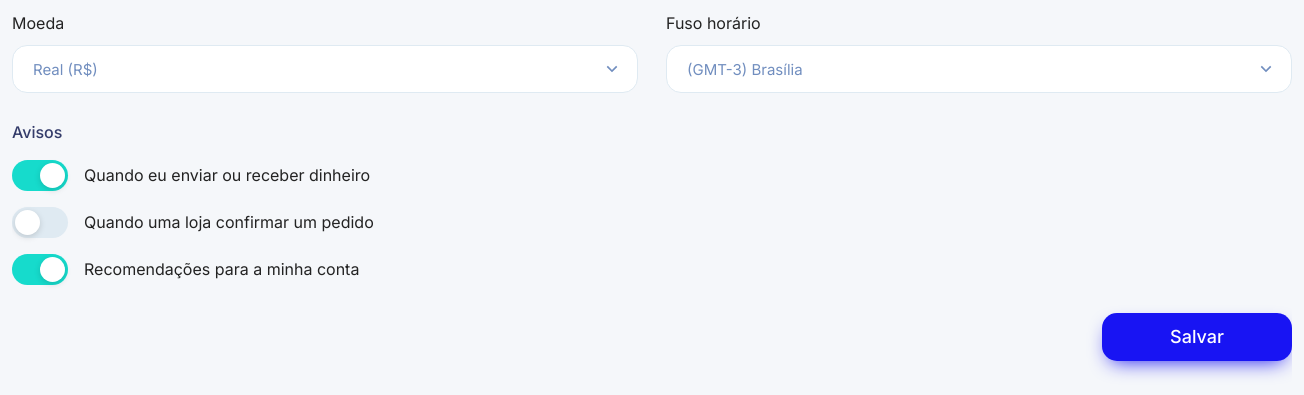
Scenario: salvar confirma; mudar algo depois apaga a confirmação
Click the button "Salvar" at (1197, 337), box [1102,313,1292,361]
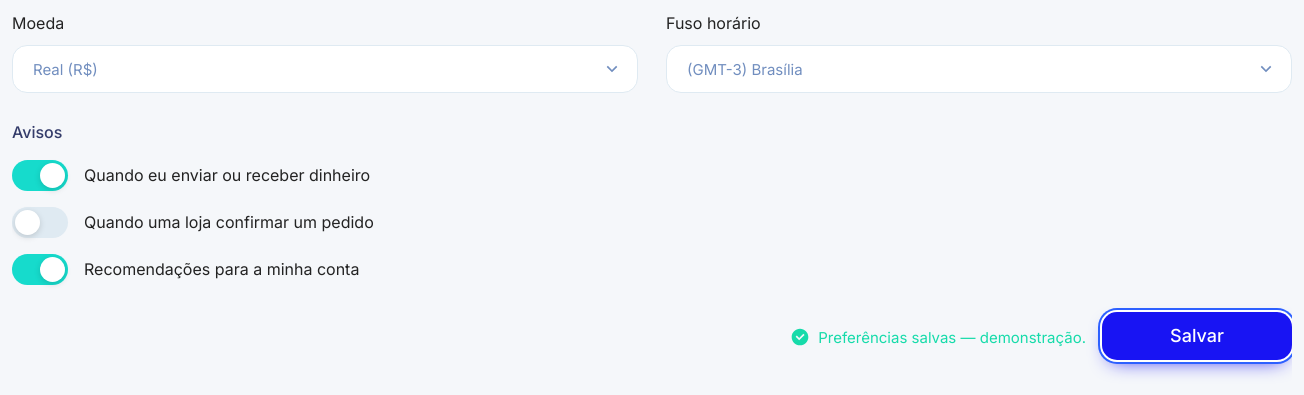
Expected: the message shows "Preferências salvas", [818,328,1086,347]
Click the switch named "Recomendações para a minha conta" next to "Recomendações para a minha conta" at (40, 270), box [12,254,68,285]
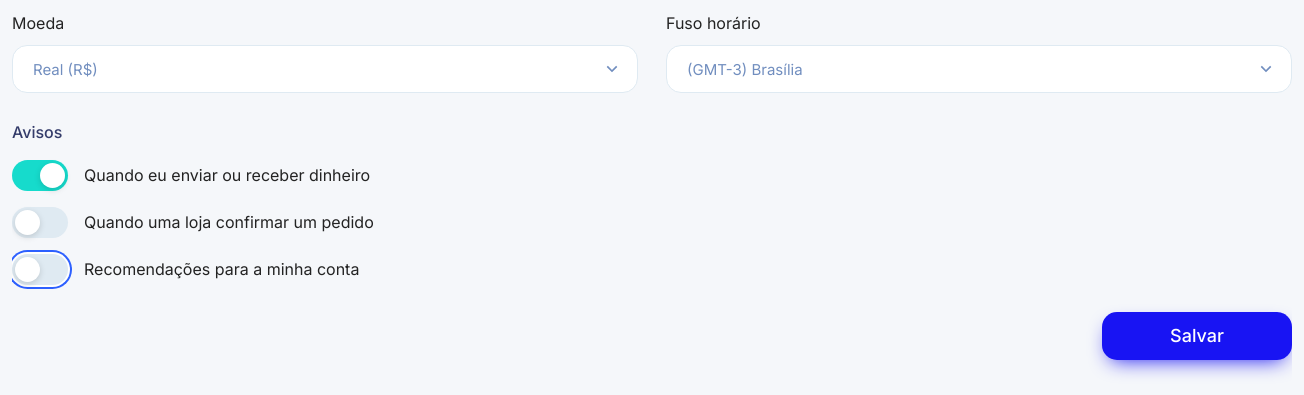
Expected: the message "Preferências salvas — demonstração." is gone
